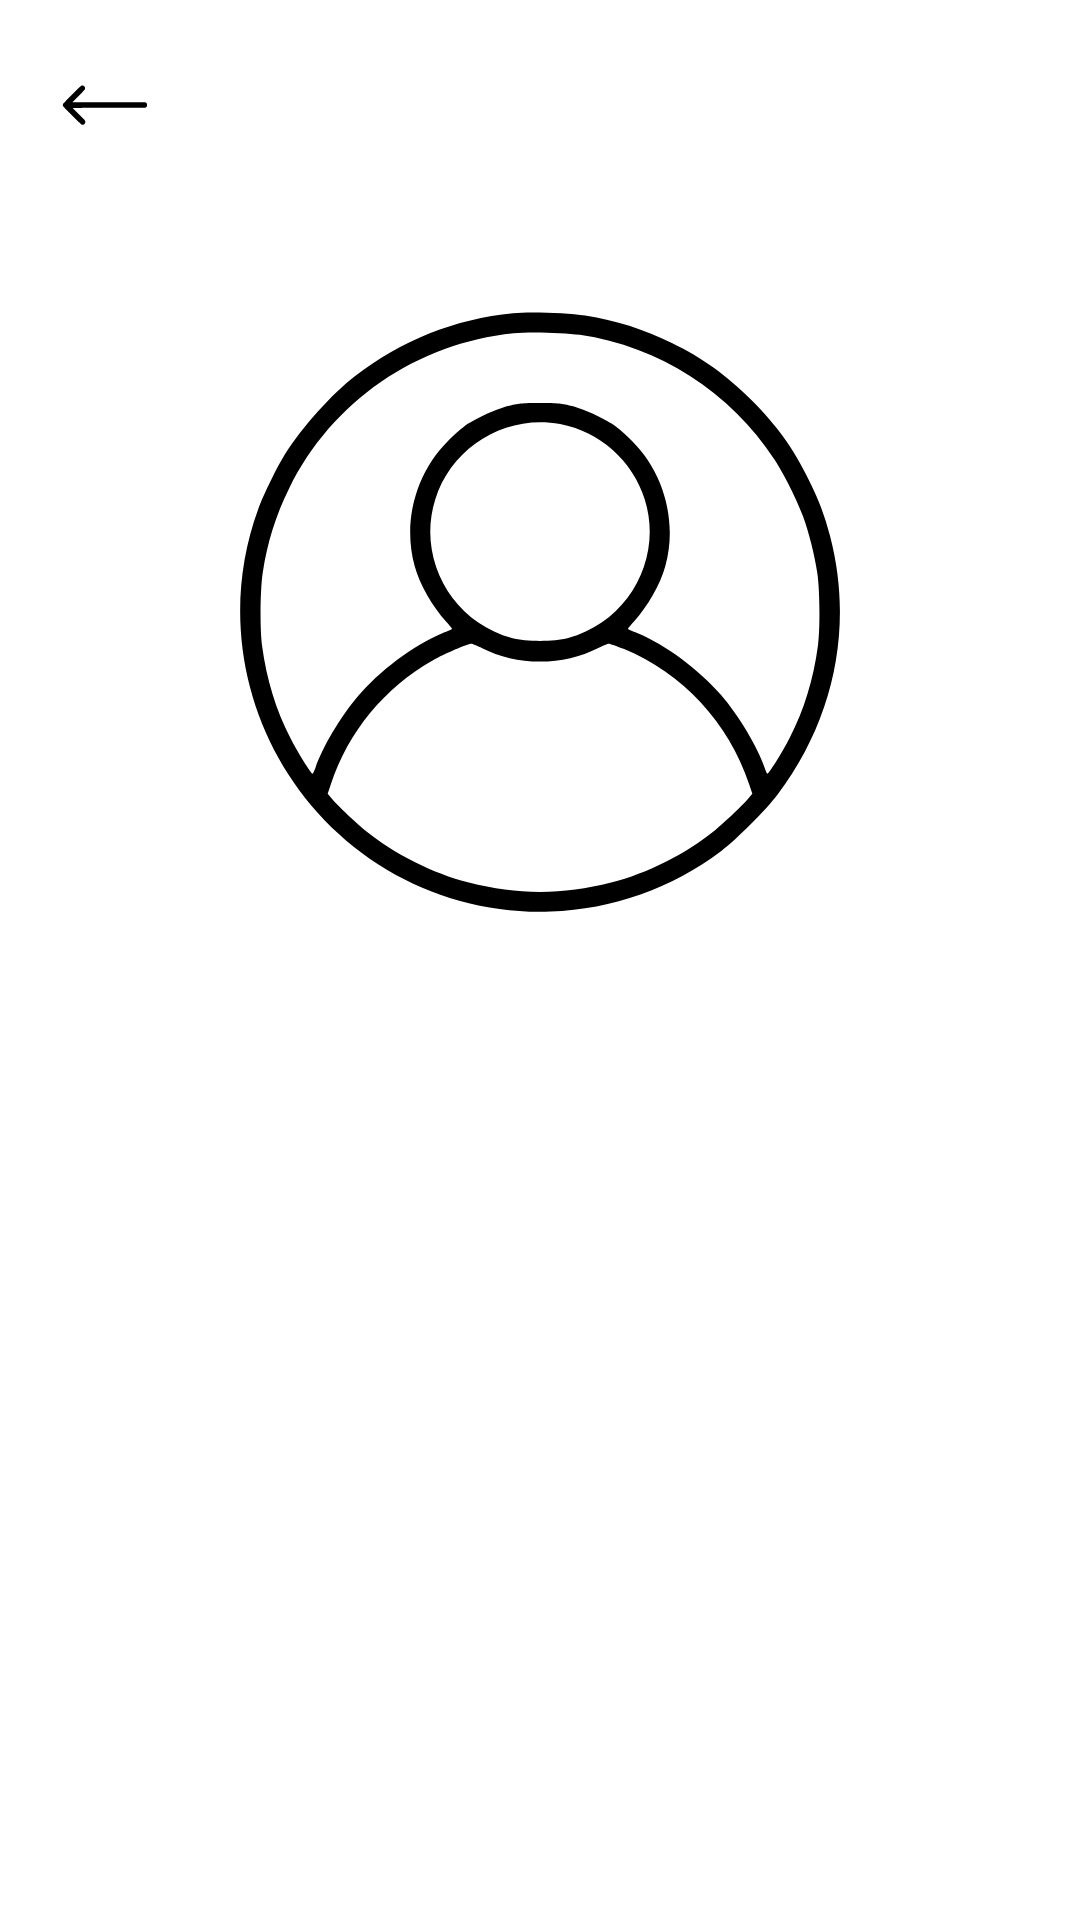

Icon bounding boxes for this 1080*1920 phone screenshot, format bbox=(x1, y1, x2, y2):
arrow: bbox=(62, 85, 147, 125)
